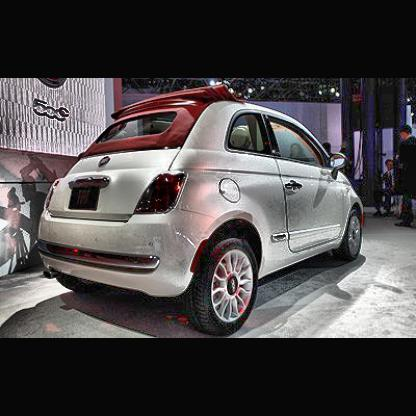FIAT 500 Convertible 2012: (39, 86, 365, 338)
